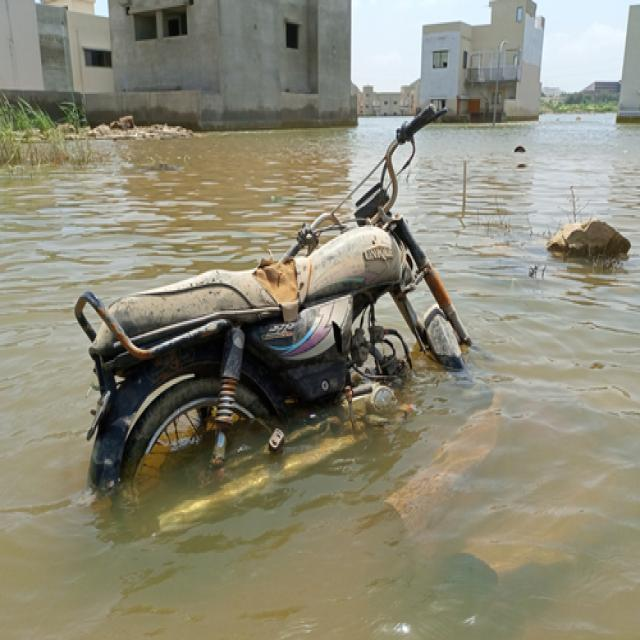FLOOD: (0, 117, 639, 638)
